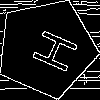H: (21, 23, 79, 75)
